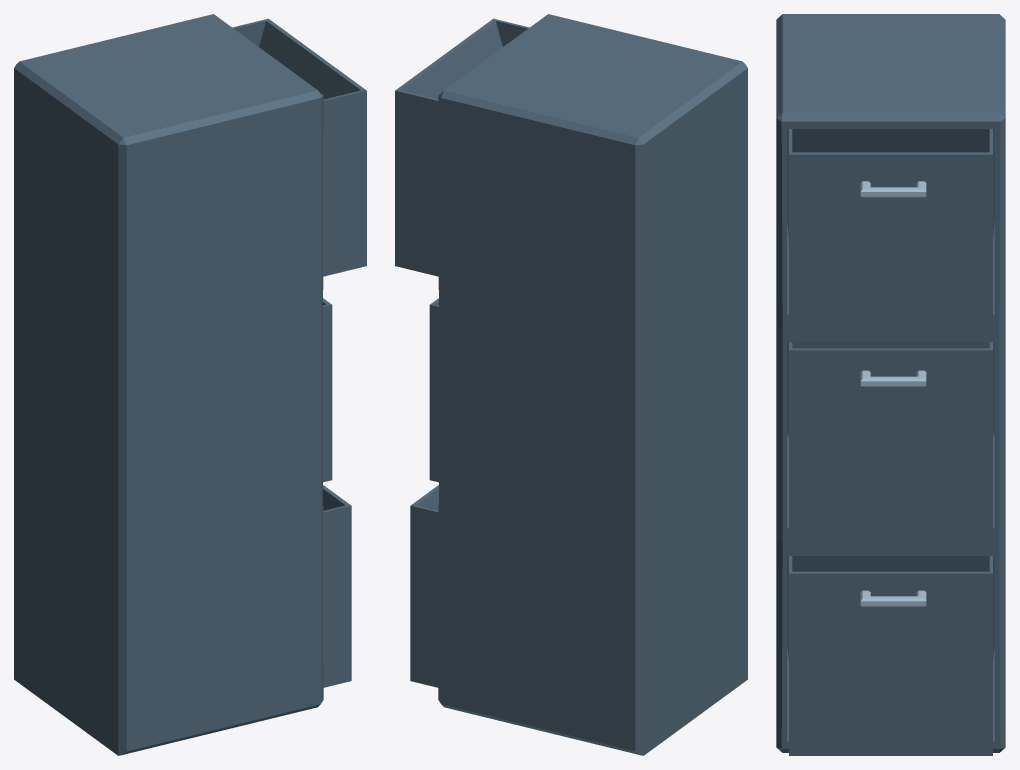
File: SM_FileCabinetOpen.fbx
The picture shows the model from 3 angles, left to right: view 1: azimuth 30°, elevation 25°; view 2: azimuth 150°, elevation 25°; view 3: azimuth 270°, elevation 25°; orthographic projection. The views are drawn at different scales.
Parts seen in each view (by area): view 1: Cube.014; view 2: Cube.014; view 3: Cube.014.
Part boxes in pixels (<box>): Cube.014: <box>14,14,366,755</box>; Cube.014: <box>395,14,747,755</box>; Cube.014: <box>776,14,1005,755</box>.
Bounding box in the file's own units: 44.47 × 62.65 × 137.
